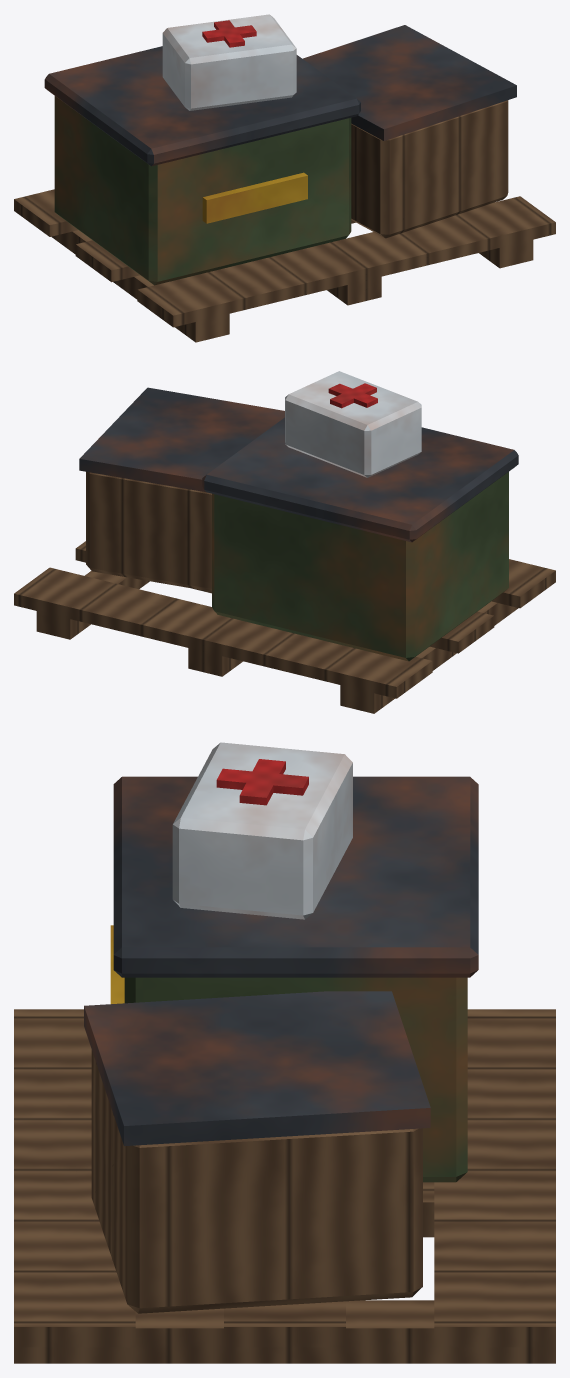
File: env_supply_crate_loot.glb
The picture shows the model from 3 angles, top to bottom: view 1: azimuth 30°, elevation 25°; view 2: azimuth 150°, elevation 25°; view 3: azimuth 270°, elevation 25°; orthographic projection. The views are drawn at different scales.
Parts seen in each view (by area): view 1: Env_supply_crate_loot; view 2: Env_supply_crate_loot; view 3: Env_supply_crate_loot.
Boxes of the visible parts, x1,y1,x2,y2 form: Env_supply_crate_loot: [14, 14, 555, 342]; Env_supply_crate_loot: [14, 371, 555, 713]; Env_supply_crate_loot: [14, 742, 555, 1363].
Size of the model in its own units: 1.36 by 0.785 by 0.98.
6 materials, 6 textured.
